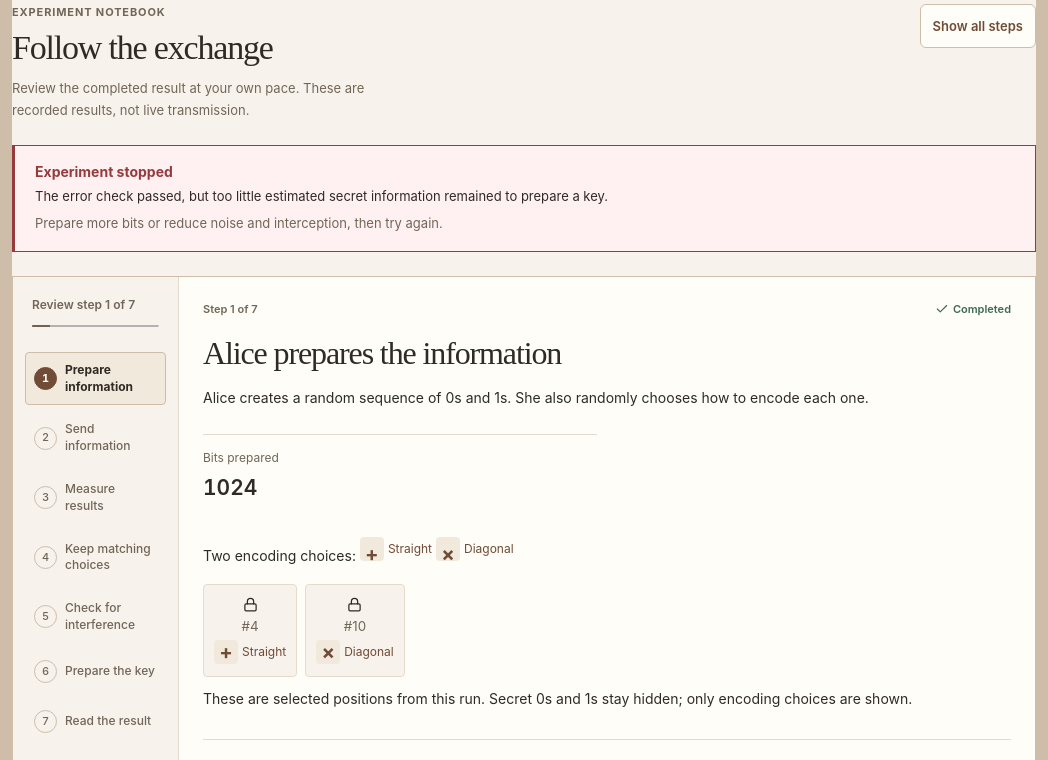
it: recorded experiment walkthrough › explains insufficient_entropy and does not show an intermediate value as a final usable key
expect the text "Experiment stopped" is shown: met, box [35,163,173,180]
expect the text "too little estimated secret information" is shown: met, box [35,188,608,204]
Click the button with aria-label "Step 6:" at (96, 672), box [25,650,166,694]
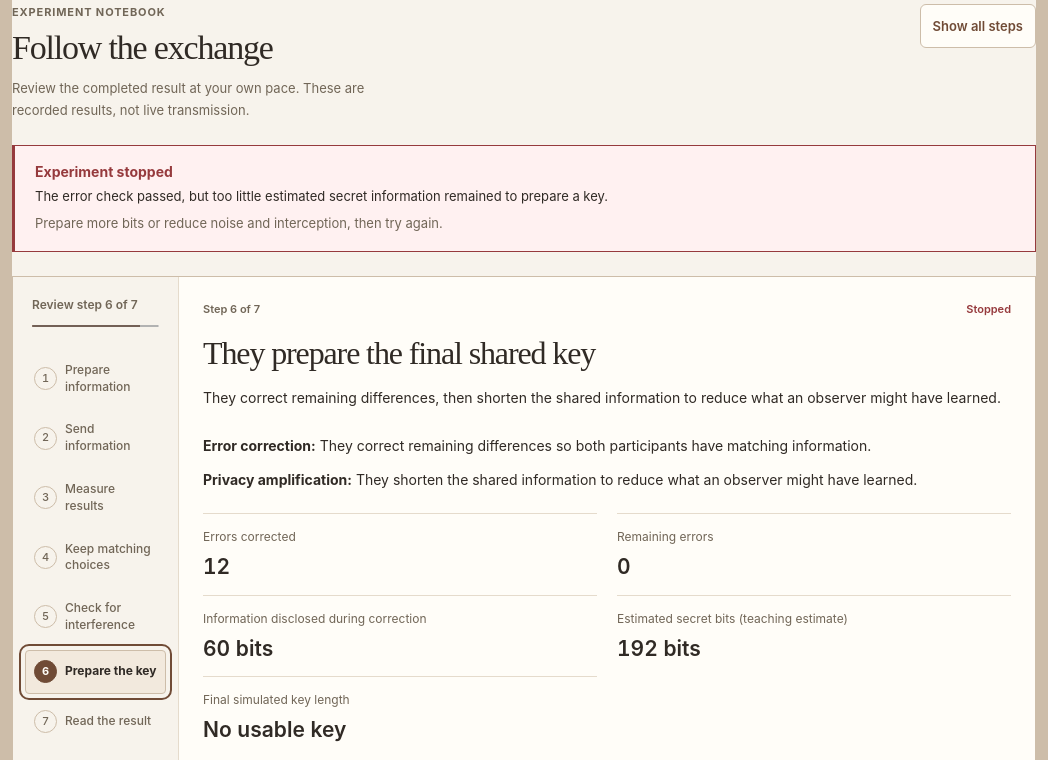
expect the text "No usable key" is shown: met, box [203,717,346,742]
